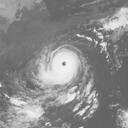cyclone: (34, 44, 84, 88)
